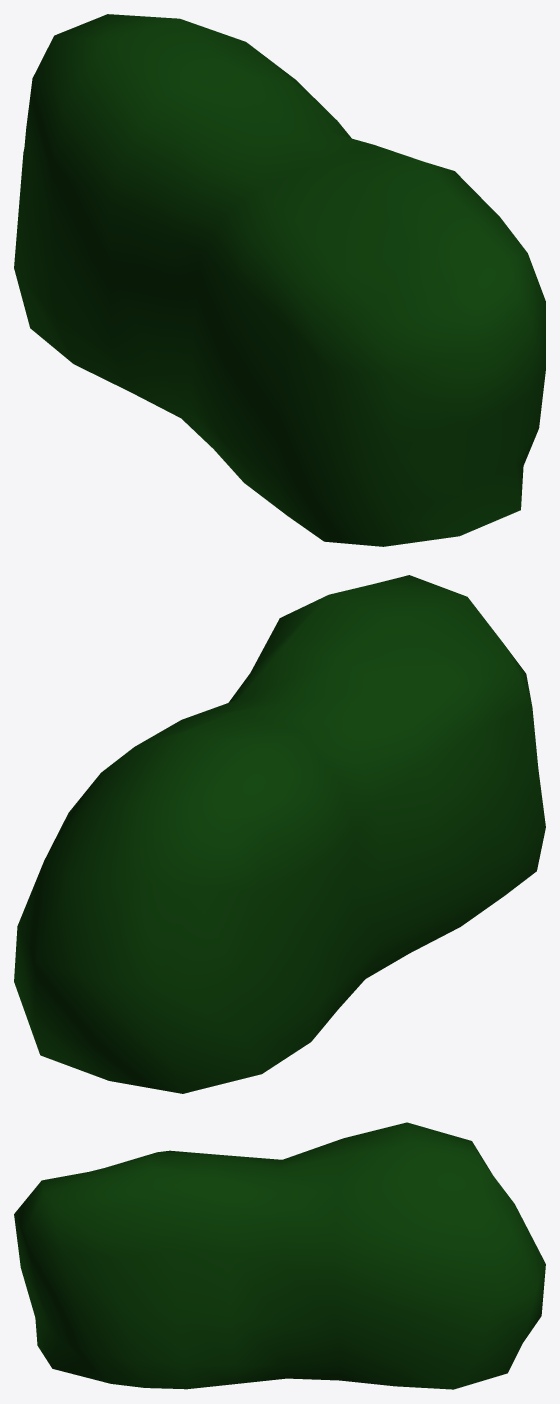
Rendered from Hecke_01.fbx.
3 renders of one model, top to bottom at view 1: azimuth 30°, elevation 25°; view 2: azimuth 150°, elevation 25°; view 3: azimuth 270°, elevation 25°, orthographic. The views are drawn at different scales.
Parts seen in each view (by area): view 1: Cube.002; view 2: Cube.002; view 3: Cube.002.
Part boxes in pixels (x1,y1,x2,y2): Cube.002: (14,14,545,546); Cube.002: (14,575,545,1093); Cube.002: (14,1122,545,1389).
Bounding box in the file's own units: 150 × 158 × 379.
